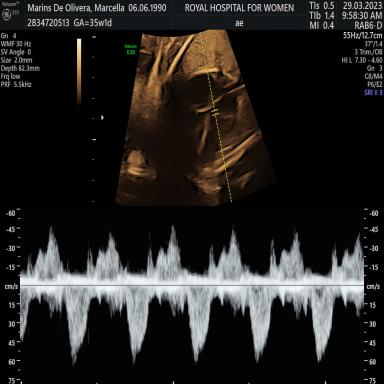Ultrasound-Waves: (24, 212, 360, 384)
